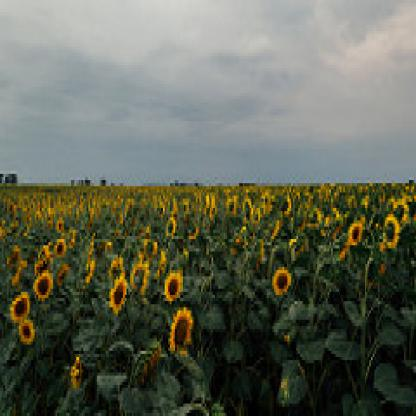SUN FLOWER: (3, 132, 405, 396)
